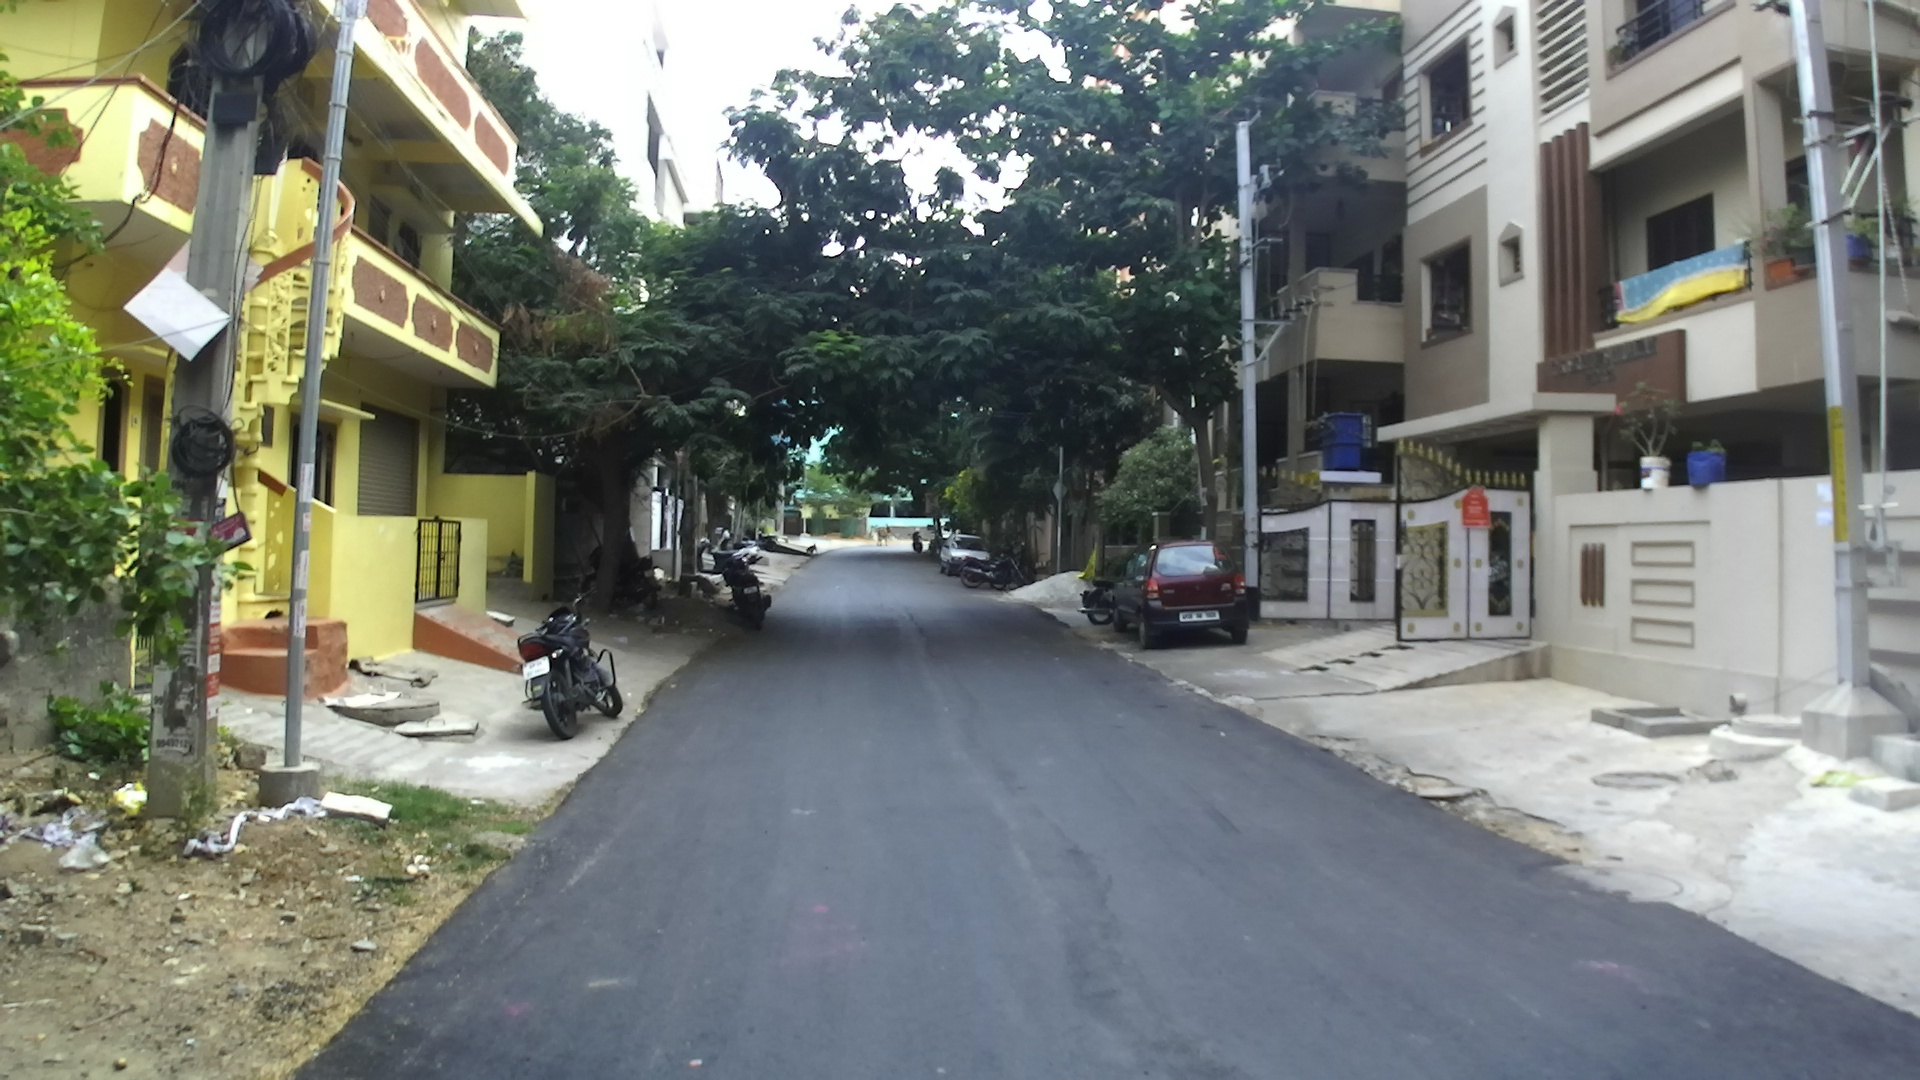vehicle: (1125, 541, 1261, 647), (520, 605, 624, 738), (696, 534, 777, 629), (940, 541, 1002, 589), (938, 537, 994, 582), (938, 535, 986, 574)
